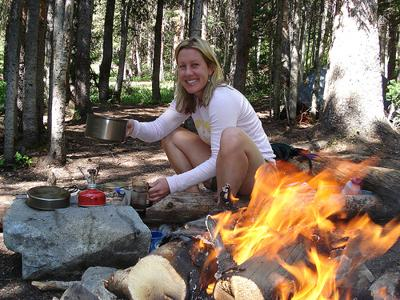person: (122, 38, 274, 209)
